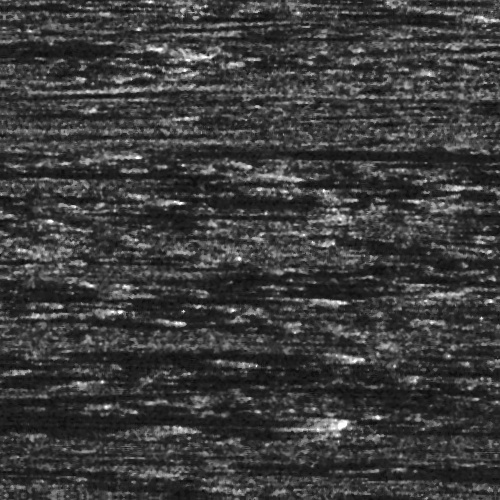object: (333, 279, 478, 298), (241, 208, 408, 221), (72, 287, 187, 302), (126, 420, 209, 437), (94, 466, 209, 477), (299, 413, 372, 428), (293, 345, 356, 358), (407, 175, 480, 186), (277, 294, 350, 303), (27, 380, 80, 391), (201, 358, 264, 367), (462, 381, 500, 394), (244, 171, 307, 178), (0, 218, 53, 225), (82, 153, 155, 158), (152, 115, 205, 120), (310, 192, 351, 197)
shadow: (6, 279, 405, 298), (0, 413, 335, 428), (40, 345, 324, 358), (0, 420, 168, 437), (0, 294, 313, 303), (292, 381, 500, 394), (124, 208, 324, 221), (202, 144, 500, 151), (11, 358, 232, 367), (0, 287, 129, 302), (0, 171, 276, 178), (310, 175, 443, 186), (389, 449, 500, 458), (66, 466, 151, 477), (398, 467, 500, 476), (195, 192, 331, 197), (275, 157, 500, 160), (376, 467, 500, 472), (0, 380, 54, 391), (0, 153, 118, 158), (424, 459, 500, 466), (105, 115, 178, 120)
